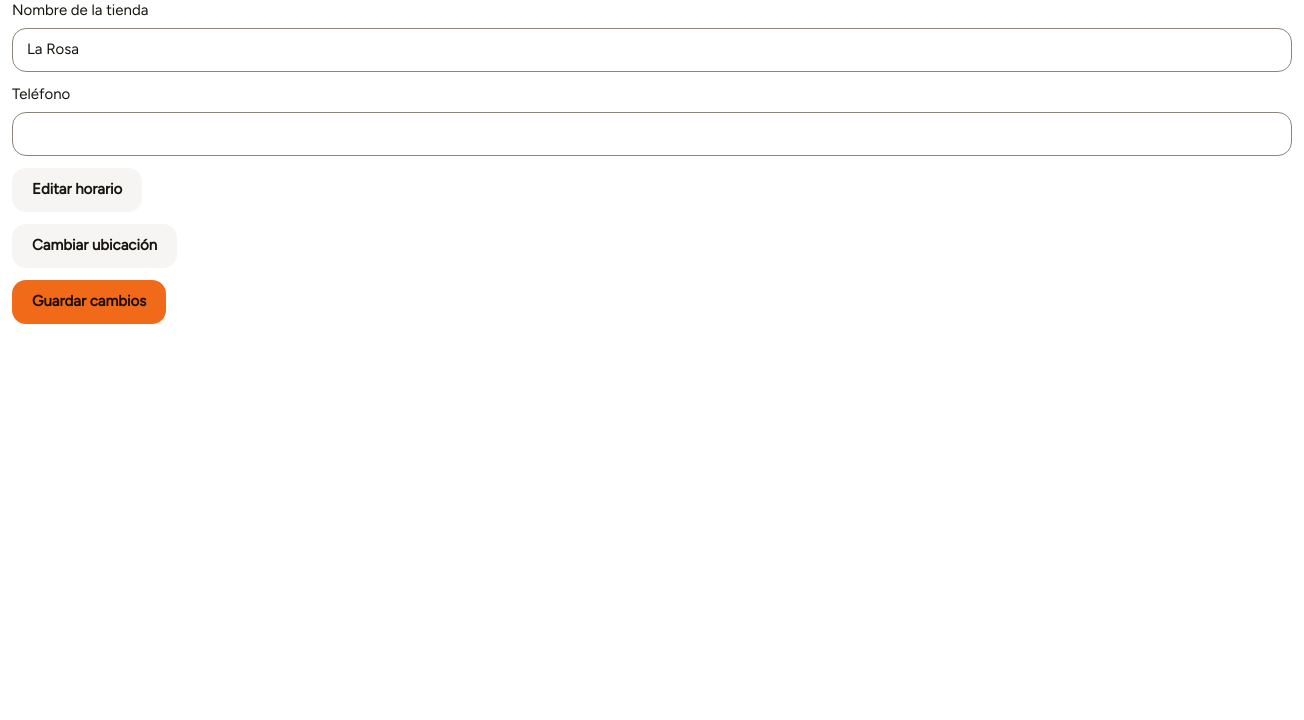
Test: editor de horario › es un grupo con leyenda y una fila con nombre por cada día, sin fieldset anidados
Click the button "Editar horario" at (77, 190), box [12, 168, 142, 212]
(page scrolled)
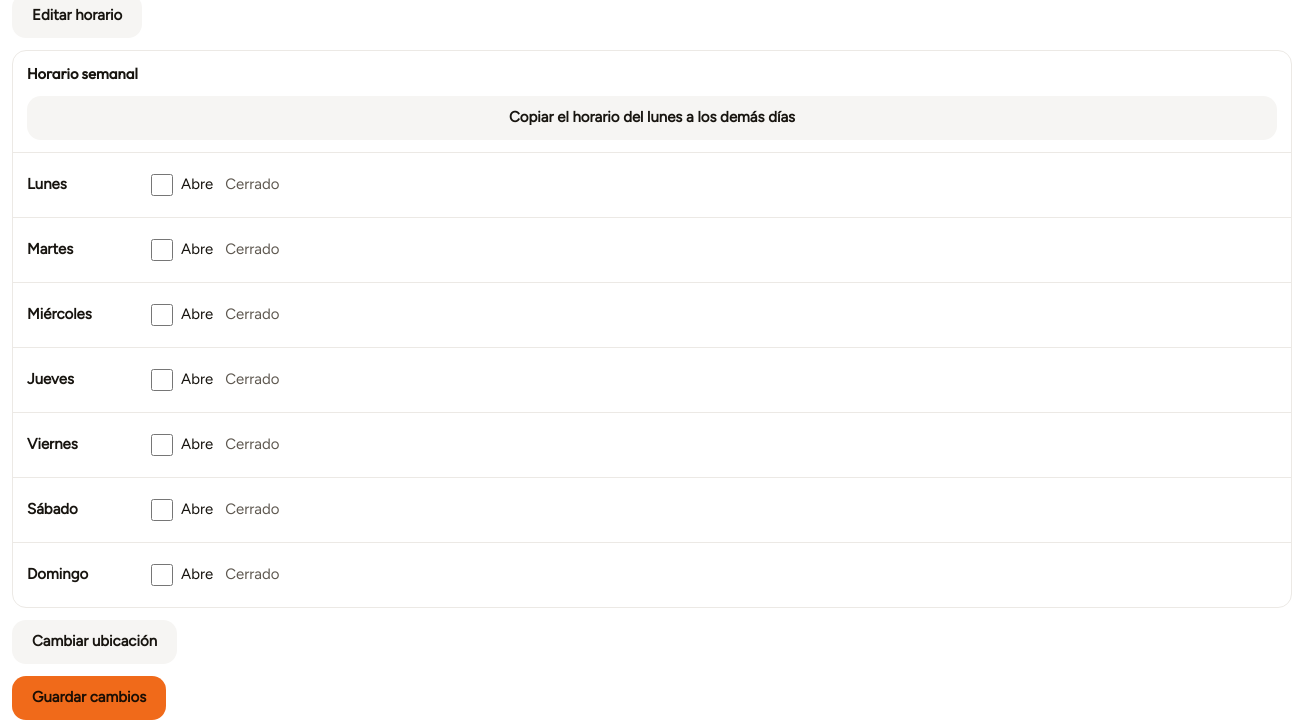
Check: the element "Horario semanal" is shown
Check: the element "Lunes" is shown, box [13, 152, 1291, 217]
Check: the element "Martes" is shown, box [13, 217, 1291, 282]
